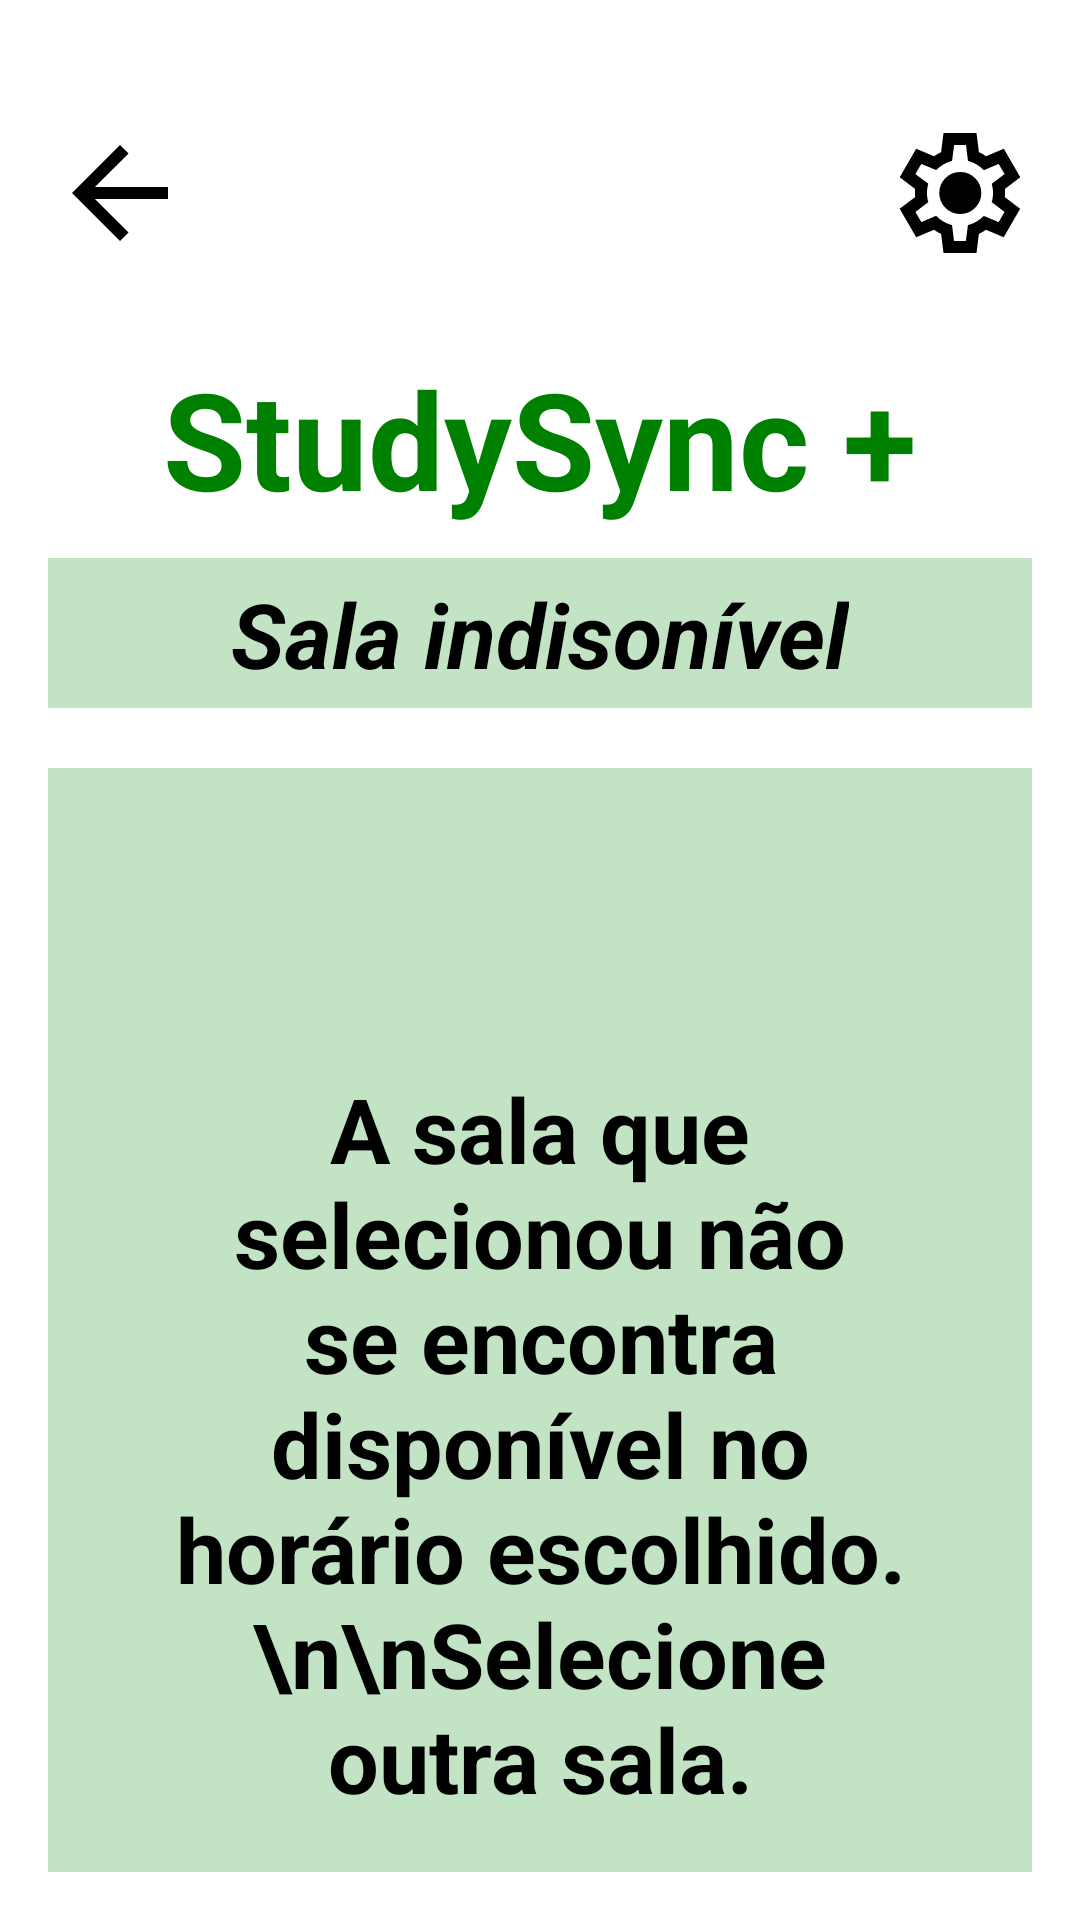

Icons on this 1080 × 1920 Android screen, each with the point to tap as (x,y):
back arrow: (120,193)
settings cog: (960,193)
